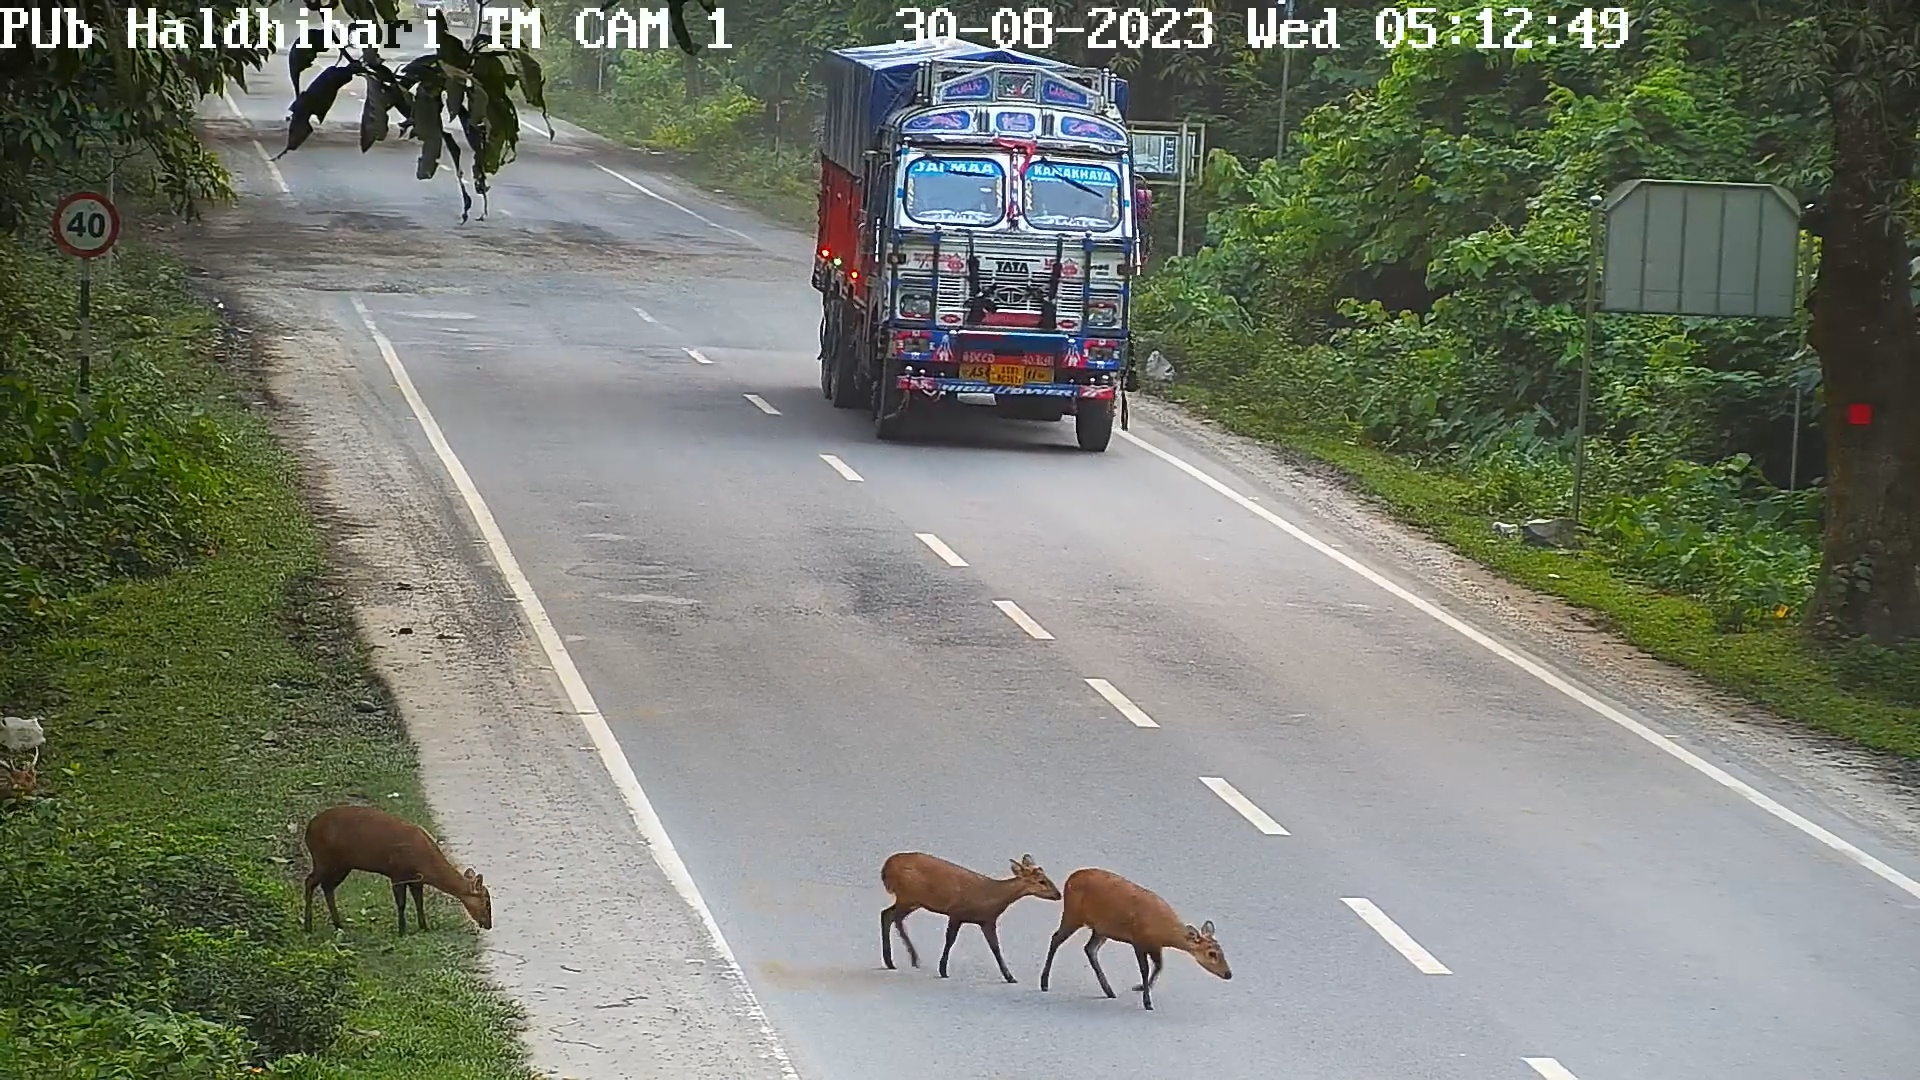deers: (222, 799, 502, 947), (1060, 839, 1234, 1027), (880, 836, 1060, 989)
